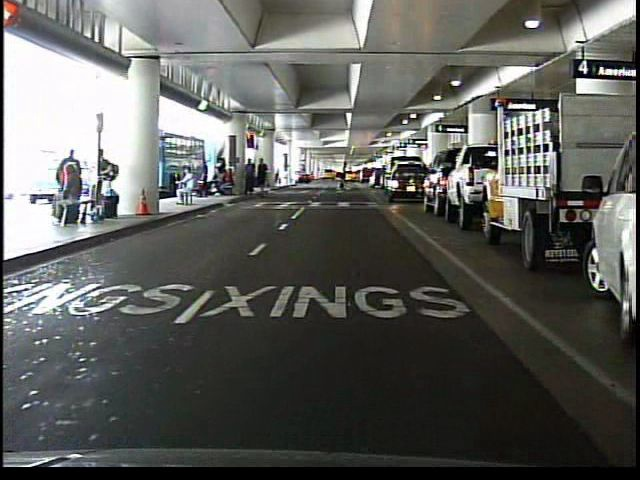person: (173, 170, 200, 210), (333, 160, 354, 193)
